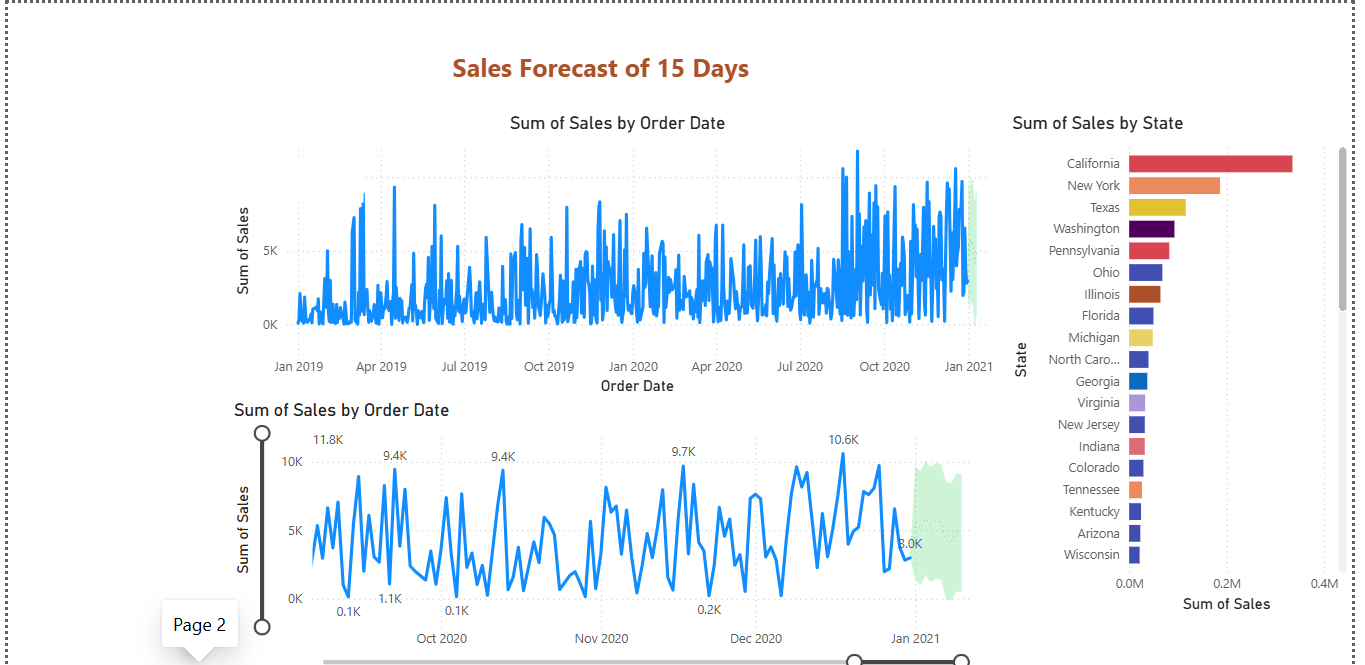

What the dashboard file says about the page in this screenshot:
{"tool":"powerbi","page":{"name":"Page 2","canvas":[1280,720],"ordinal":1},"visuals":[{"type":"lineChart","fields":{"Y":["Sum(SuperStore_Sales_Dataset (1).Sales)"],"Category":["SuperStore_Sales_Dataset (1).Order Date"]},"box":[210,103.8,741.2,272.5],"z":0},{"type":"lineChart","fields":{"Y":["Sum(SuperStore_Sales_Dataset (1).Sales)"],"Category":["SuperStore_Sales_Dataset (1).Order Date"]},"box":[210,377.1,727.1,282.9],"z":1000},{"type":"textbox","box":[0,150,338.8,40],"z":2000},{"type":"textbox","box":[0,190,210,187],"z":3000},{"type":"textbox","box":[0,377,210,282],"z":4000},{"type":"textbox","box":[948,377,332,282],"z":5000},{"type":"textbox","box":[81.2,21.2,728.8,70],"z":6000},{"type":"clusteredBarChart","fields":{"Category":["SuperStore_Sales_Dataset (1).State"],"Y":["Sum(SuperStore_Sales_Dataset (1).Sales)"]},"box":[951.4,104.3,328.6,480],"z":6001}]}

Visuals, with their boxes on the page's 1280x720 design canvas (x1, y1, x2, y2). These are canvas units, not pixel positions in the 1365x665 screenshot, which may show the page scaled, cropped or inside an application window:
lineChart - Sum(SuperStore_Sales_Dataset (1).Sales) x SuperStore_Sales_Dataset (1).Order Date: BBox(210, 104, 951, 376)
lineChart - Sum(SuperStore_Sales_Dataset (1).Sales) x SuperStore_Sales_Dataset (1).Order Date: BBox(210, 377, 937, 660)
textbox: BBox(0, 150, 339, 190)
textbox: BBox(0, 190, 210, 377)
textbox: BBox(0, 377, 210, 659)
textbox: BBox(948, 377, 1280, 659)
textbox: BBox(81, 21, 810, 91)
clusteredBarChart - SuperStore_Sales_Dataset (1).State x Sum(SuperStore_Sales_Dataset (1).Sales): BBox(951, 104, 1280, 584)
